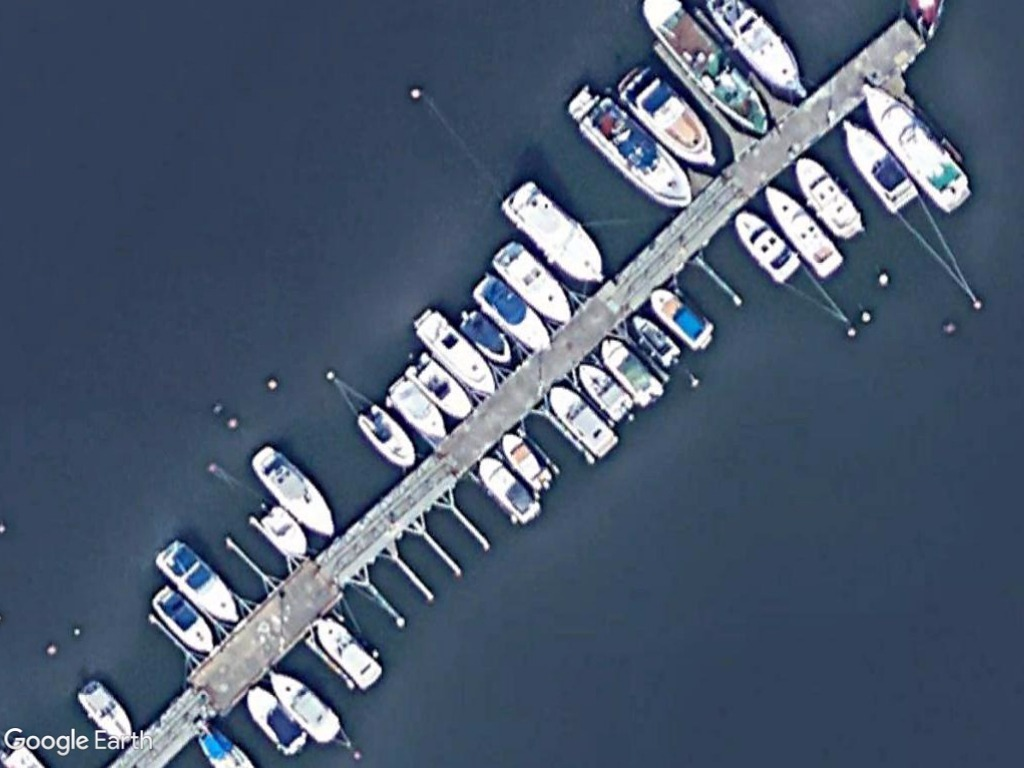boat: (562, 85, 707, 220), (854, 74, 978, 217), (493, 174, 613, 295), (609, 64, 727, 176), (246, 439, 347, 544), (758, 176, 849, 283), (411, 303, 506, 405), (486, 229, 582, 329), (147, 535, 246, 630), (833, 114, 923, 217), (468, 270, 560, 358), (261, 664, 348, 749), (791, 153, 870, 246), (544, 379, 628, 462), (729, 206, 807, 288), (466, 451, 547, 528), (397, 348, 481, 422), (311, 613, 387, 694), (378, 373, 457, 447), (595, 332, 668, 411), (646, 285, 724, 356), (240, 682, 311, 760), (68, 676, 141, 750), (149, 578, 217, 656), (448, 302, 522, 373), (349, 399, 420, 471), (572, 356, 639, 428), (499, 424, 559, 495), (625, 308, 686, 372)
